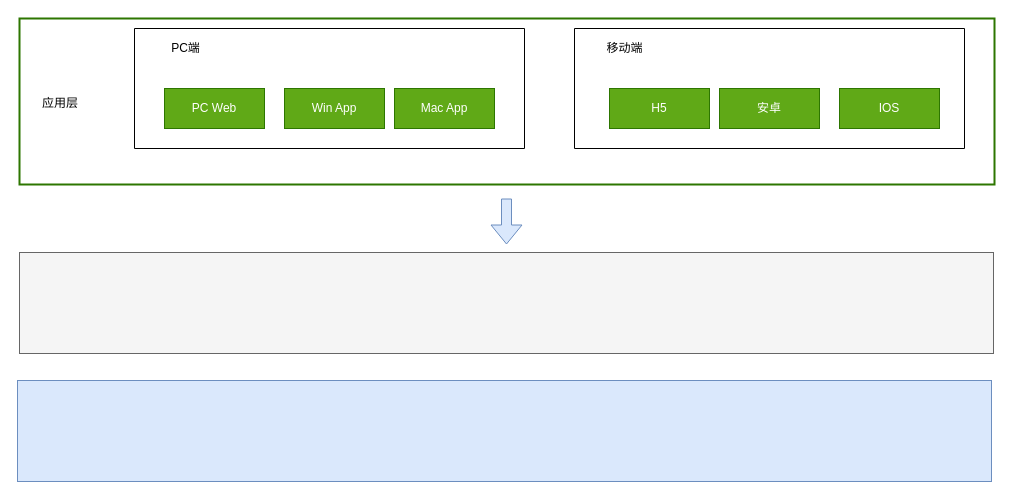
This 1013x499 diagram has some shape labels left out. Each missing label, with the box of its shape:
后台服务: (18, 252, 994, 354)
基础服务: (16, 380, 992, 482)
